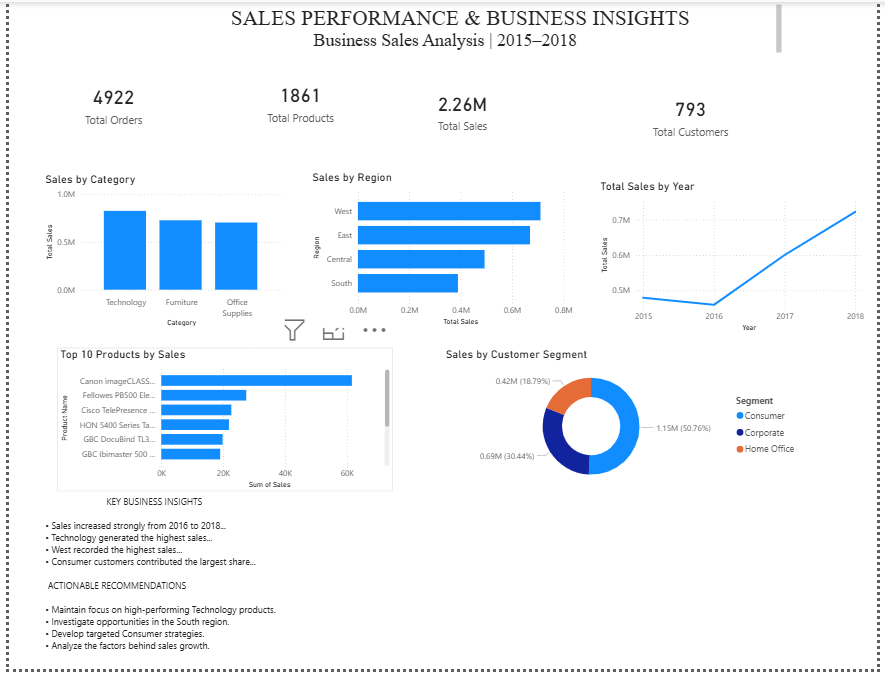

The dashboard page shown, as its layout file describes it:
{"tool":"powerbi","page":{"name":"Page 1","canvas":[1300,1000],"ordinal":0},"visuals":[{"type":"card","fields":{"Values":["train.Total Orders"]},"box":[15.1,79.4,281.6,149.3],"z":0},{"type":"card","fields":{"Values":["train.Total Sales"]},"box":[540.5,111.5,279.7,100.2],"z":1000},{"type":"card","fields":{"Values":["train.Total Customers"]},"box":[882.5,111.5,279.7,117.2],"z":2000},{"type":"card","fields":{"Values":["train.Total Products"]},"box":[296.7,71.8,279.7,156.9],"z":3000},{"type":"lineChart","fields":{"Category":["train.Order Date.Variation.Date Hierarchy.Year","train.Order Date.Variation.Date Hierarchy.Quarter","train.Order Date.Variation.Date Hierarchy.Month","train.Order Date.Variation.Date Hierarchy.Day"],"Y":["train.Total Sales"]},"box":[881.6,267.6,404.8,231.6],"z":4000},{"type":"clusteredBarChart","title":"Top 10 Products by Sales","fields":{"Category":["train.Product Name"],"Y":["Sum(train.Sales)"]},"box":[72,519.5,503.8,215.9],"z":5000},{"type":"clusteredColumnChart","title":"Sales by Category","fields":{"Category":["train.Category"],"Y":["train.Total Sales"]},"box":[49.5,256.4,364.3,236.1],"z":6000},{"type":"clusteredBarChart","title":"Sales by Region","fields":{"Category":["train.Region"],"Y":["train.Total Sales"]},"box":[449.8,254.1,400.3,236.1],"z":7000},{"type":"donutChart","title":"Sales by Customer Segment","fields":{"Category":["train.Segment"],"Y":["train.Total Sales"]},"box":[649.9,519.5,542,215.9],"z":8000},{"type":"textbox","box":[230.6,0,931.7,96.4],"z":9000},{"type":"textbox","box":[49.5,735.4,1236.9,265.4],"z":10000}]}

Visuals, with their boxes in screenshot pixels (x1, y1, x2, y2), scaled from the page's 1300x1000 canvas onto the 885x675 screenshot:
card - train.Total Orders: {"left": 10, "top": 54, "right": 202, "bottom": 154}
card - train.Total Sales: {"left": 368, "top": 75, "right": 558, "bottom": 143}
card - train.Total Customers: {"left": 601, "top": 75, "right": 791, "bottom": 154}
card - train.Total Products: {"left": 202, "top": 48, "right": 392, "bottom": 154}
lineChart - train.Order Date.Variation.Date Hierarchy.Year x train.Order Date.Variation.Date Hierarchy.Quarter: {"left": 600, "top": 181, "right": 876, "bottom": 337}
"Top 10 Products by Sales" clusteredBarChart: {"left": 49, "top": 351, "right": 392, "bottom": 496}
"Sales by Category" clusteredColumnChart: {"left": 34, "top": 173, "right": 282, "bottom": 332}
"Sales by Region" clusteredBarChart: {"left": 306, "top": 172, "right": 579, "bottom": 331}
"Sales by Customer Segment" donutChart: {"left": 442, "top": 351, "right": 811, "bottom": 496}
textbox: {"left": 157, "top": 0, "right": 791, "bottom": 65}
textbox: {"left": 34, "top": 496, "right": 876, "bottom": 674}
